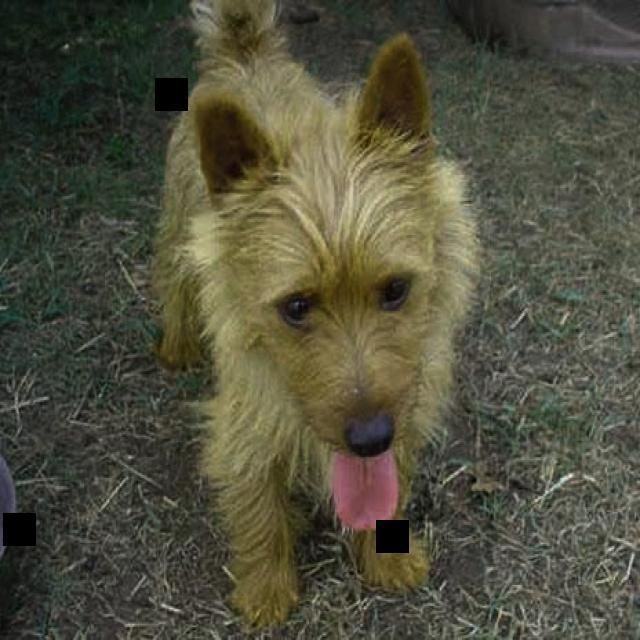adult_dog: (146, 0, 485, 631)
